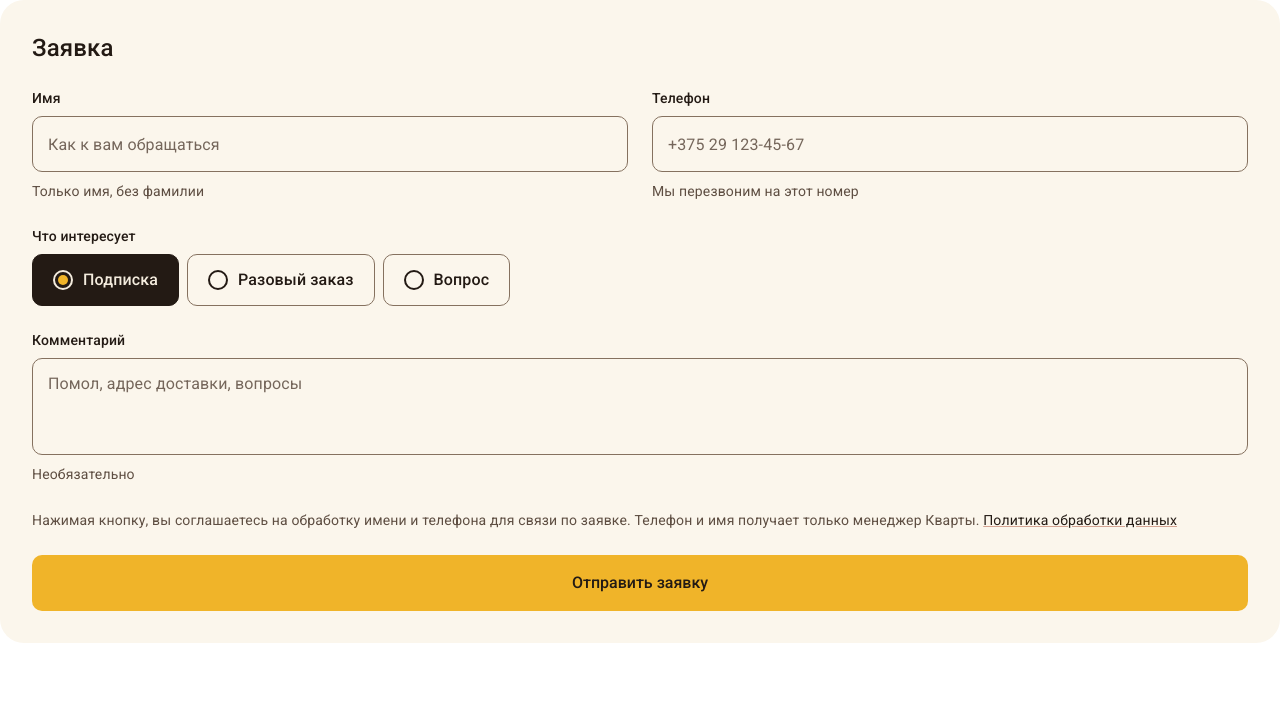
Test case: LeadForm sending › uses a new key when the content was edited after a failed send
This screenshot has width=1280, height=720.
Step 1. Type "Анна" into the field labelled "Имя" → (330, 144), box [32,116,628,172]
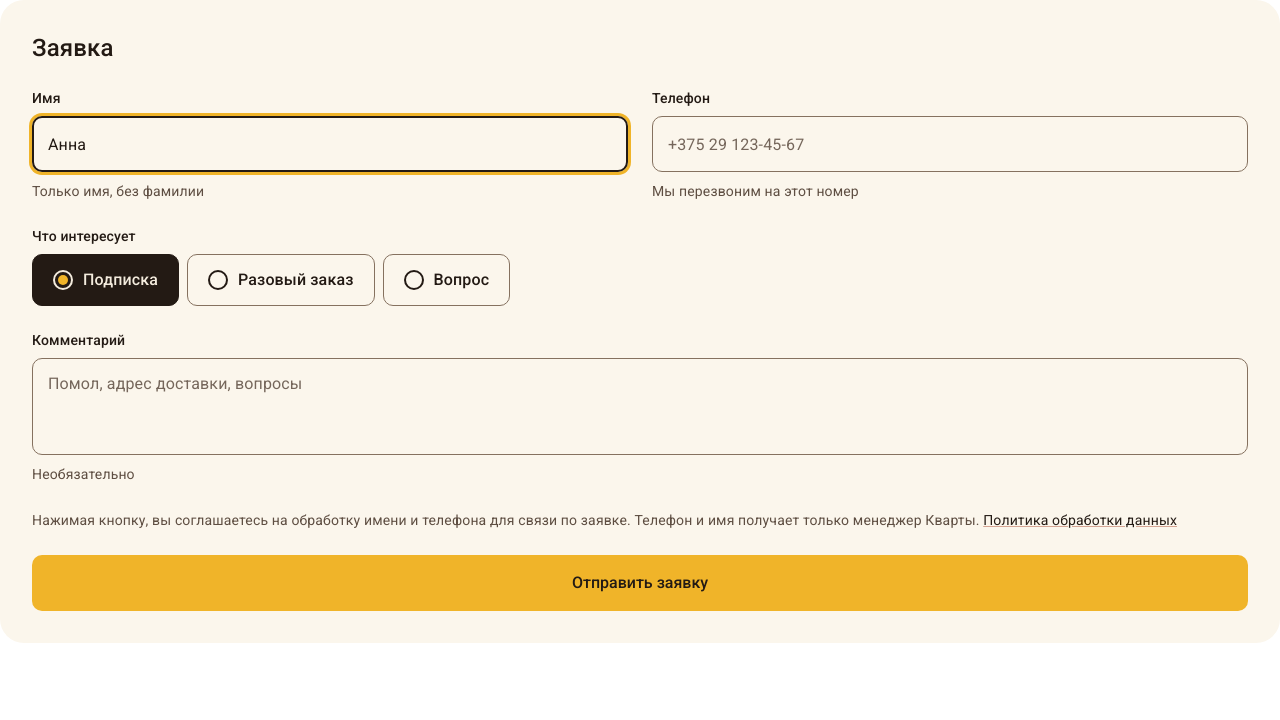
Step 2. Type "80291234567" into the field labelled "Телефон" → (950, 144), box [652,116,1248,172]
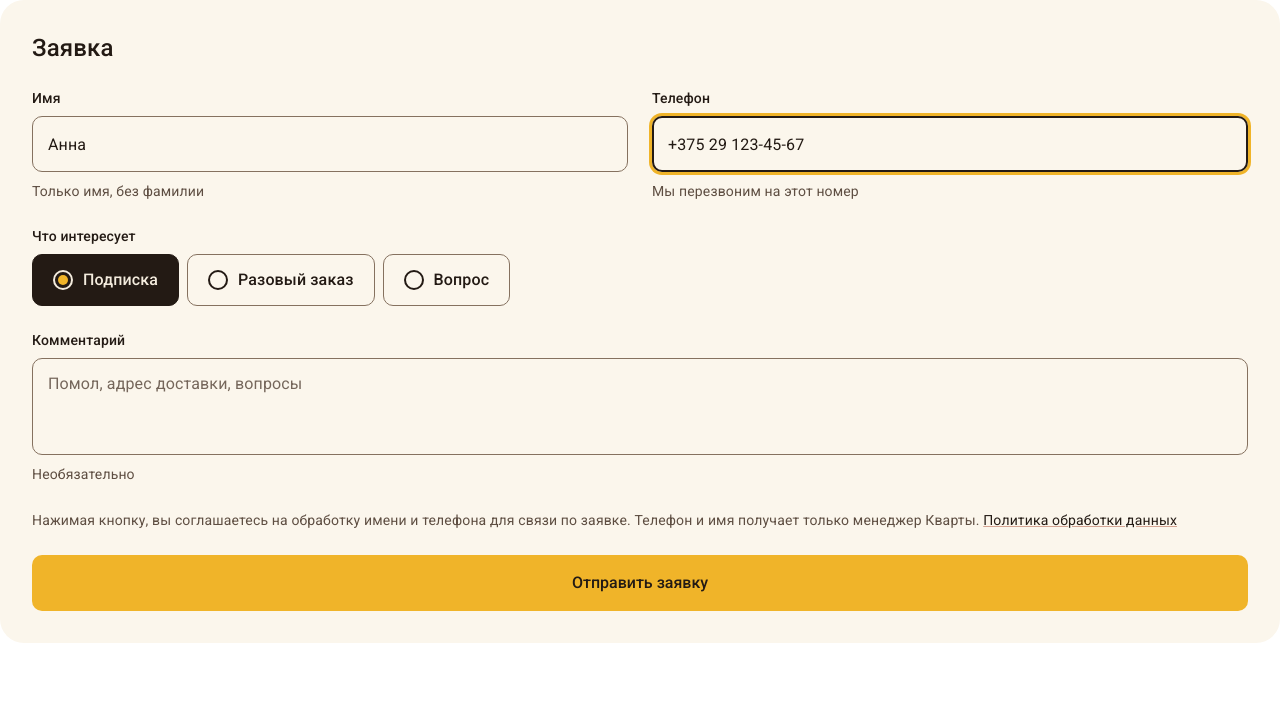
Step 3. Click the button "Отправить заявку" → (640, 583), box [32,555,1248,611]
(page scrolled)
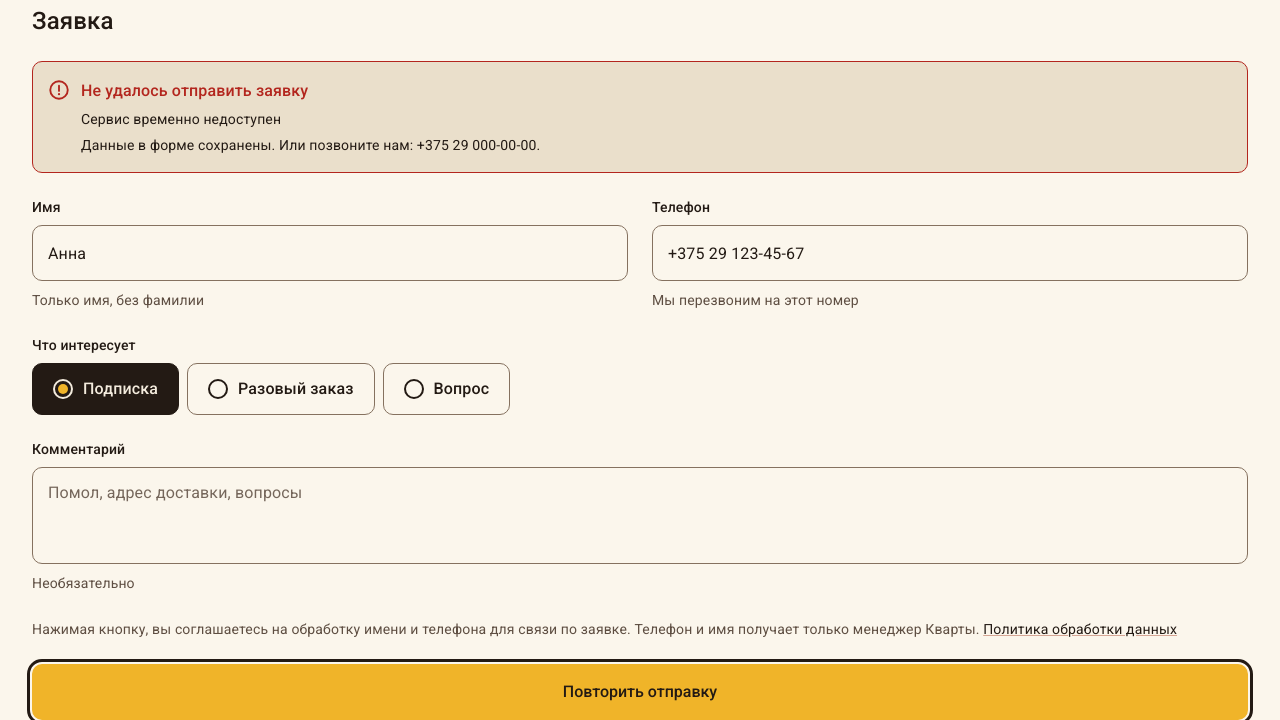
Step 4. Type "80331112233" into the field labelled "Телефон" → (950, 253), box [652,225,1248,281]
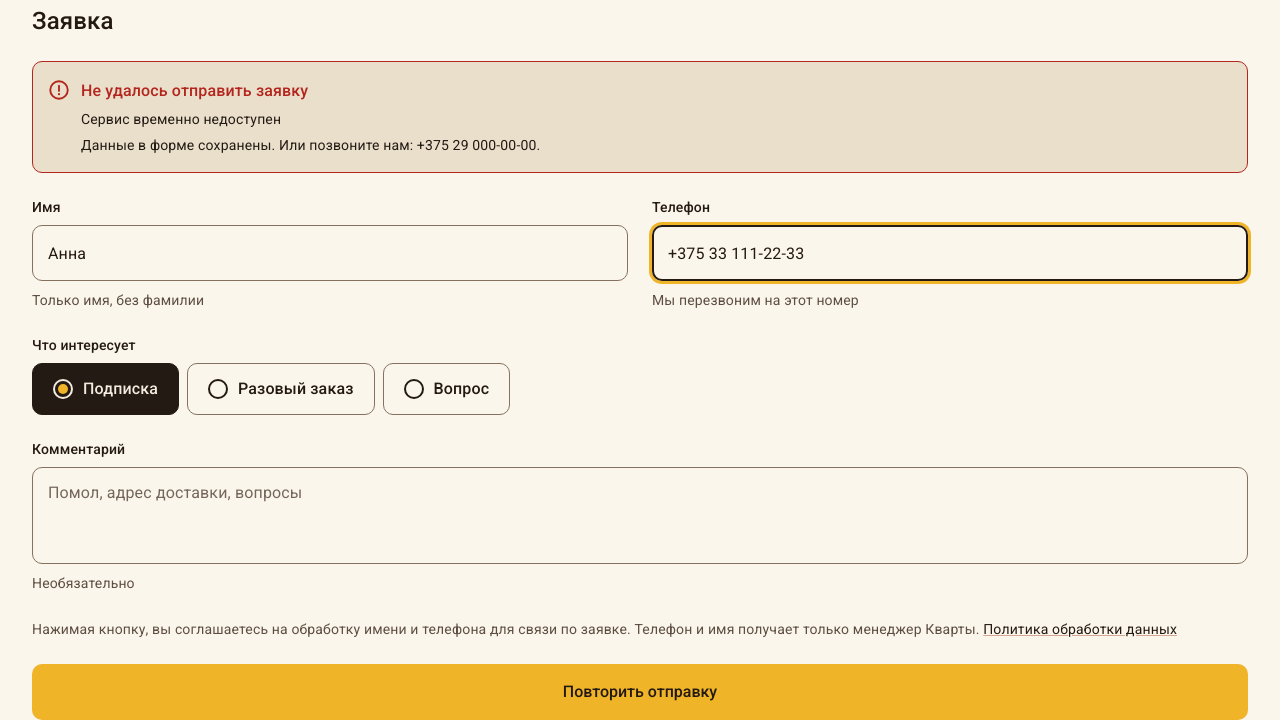
Step 5. Click the button "Повторить отправку" → (640, 692), box [32,664,1248,719]
(page scrolled)
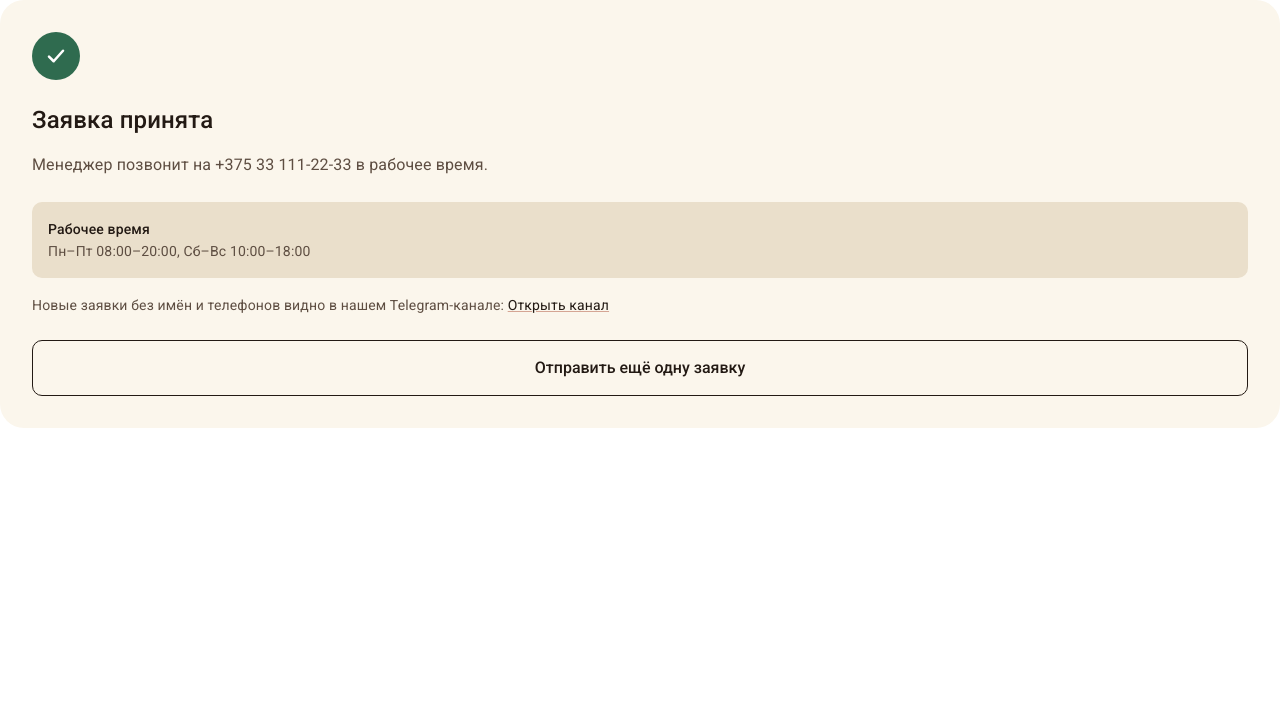
Expected: the heading "Заявка принята" is shown, [32,106,213,134]
